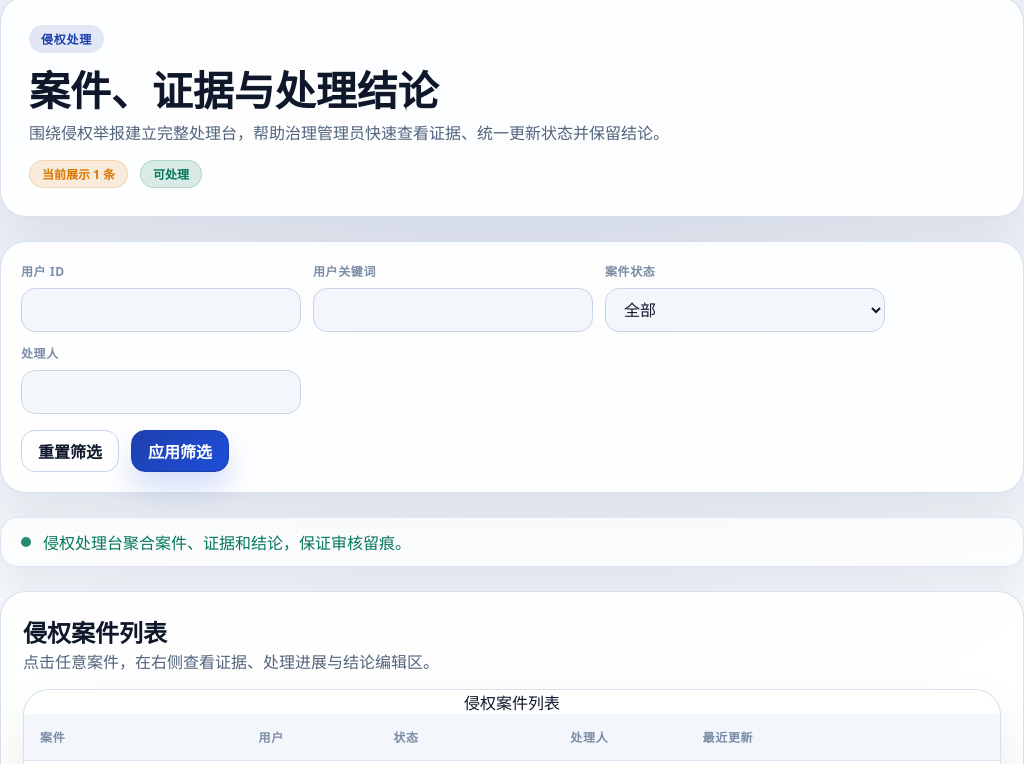
InfringementPage › filters infringement reports and updates selected case through confirmation
Select "待处理" in the dropdown labelled "案件状态". click: (745, 310)
box: [605,288,885,332]
Click the button "应用筛选". click: (180, 451)
box: [131,430,229,472]
(page scrolled)
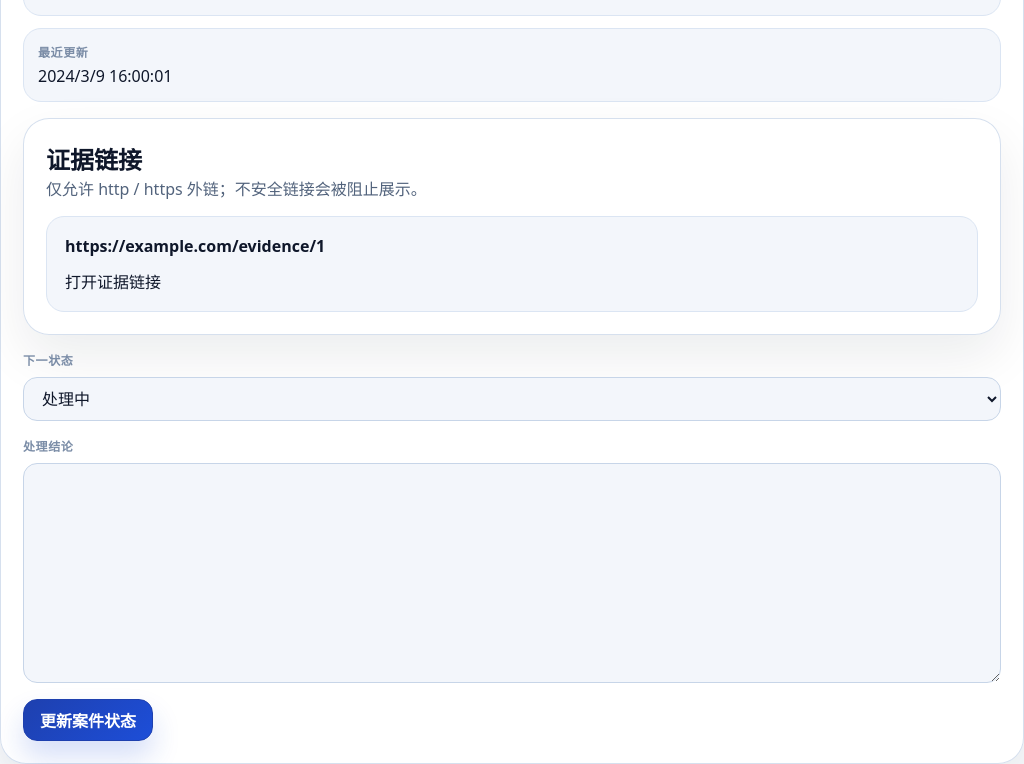
Select "已处置" in the dropdown labelled "下一状态". click: (512, 399)
box: [23,377,1001,421]
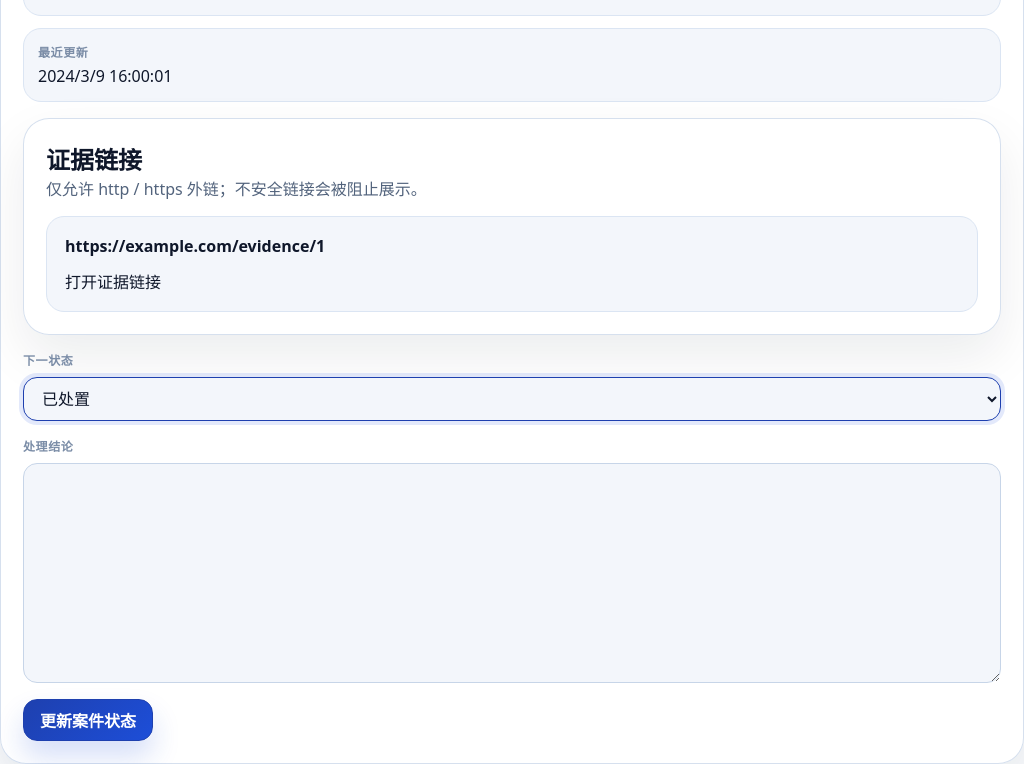
Type "已下架并记录证据。" into the text box labelled "处理结论". click: (512, 573)
box: [23,463,1001,683]
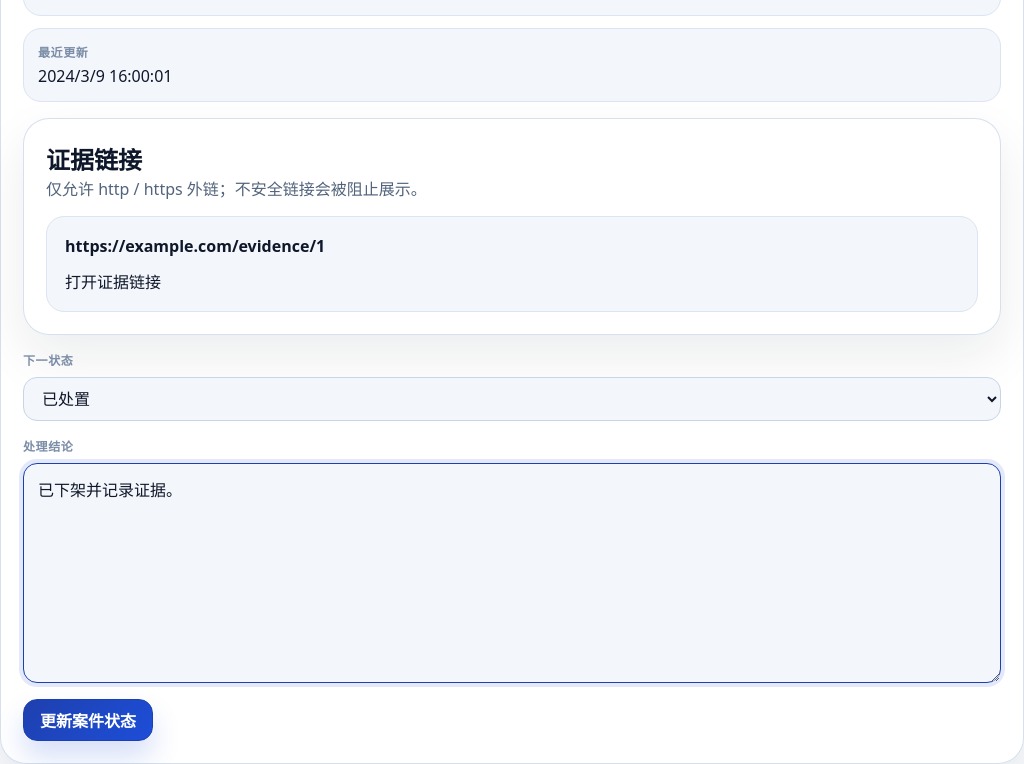
Click the button "更新案件状态". click: (88, 720)
box: [23,699,153,741]
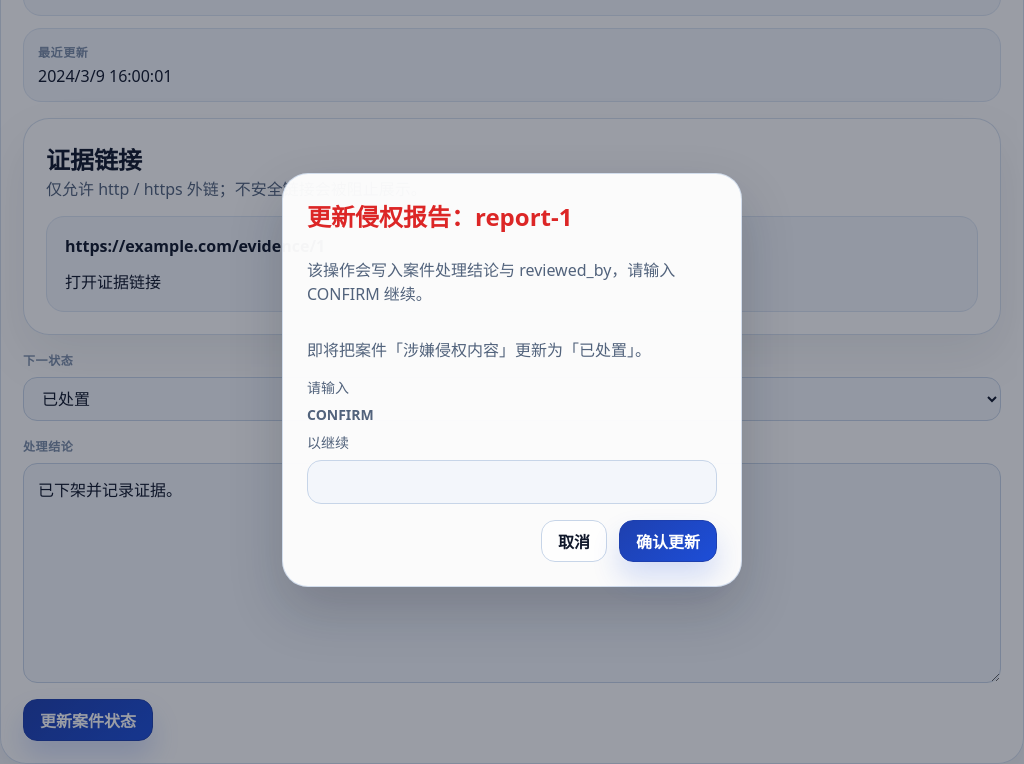
Expected: the dialog "更新侵权报告：report-1" is shown, [282,173,742,587]
Type "CONFIRM" into the field labelled "请输入 CONFIRM 以继续". click: (512, 482)
box: [307,460,717,504]
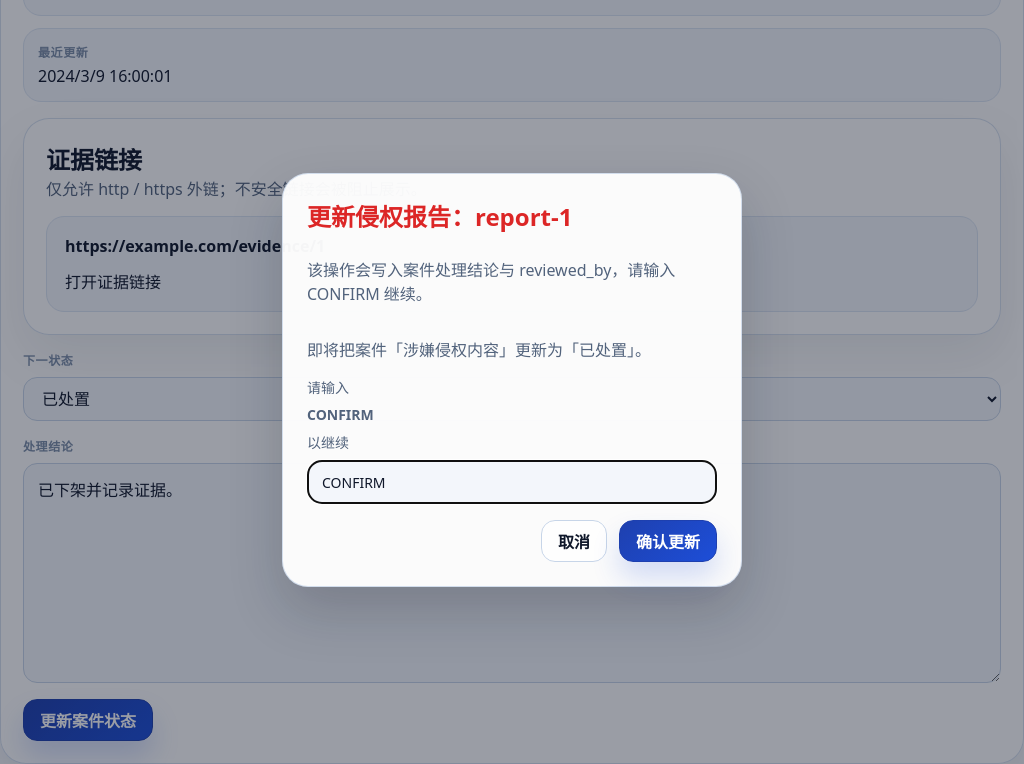
Click the button "确认更新". click: (668, 541)
box: [619,520,717,562]
(page scrolled)
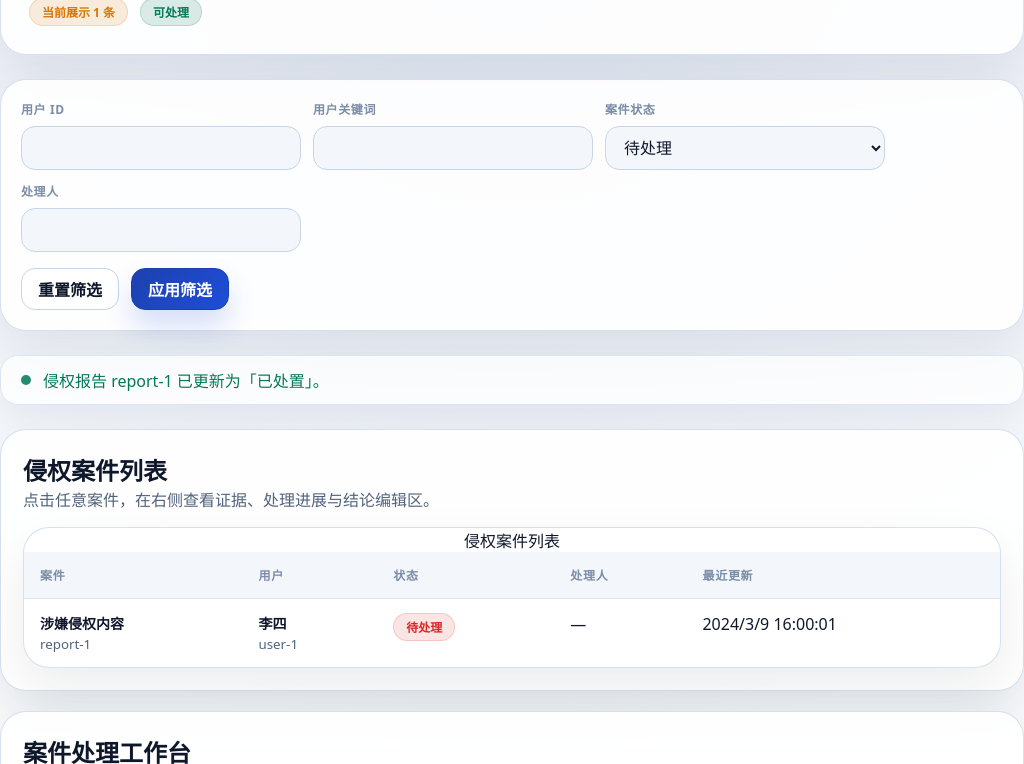
Expected: the text "侵权报告 report-1 已更新为「已处置」。" is shown, [0,355,1023,405]
